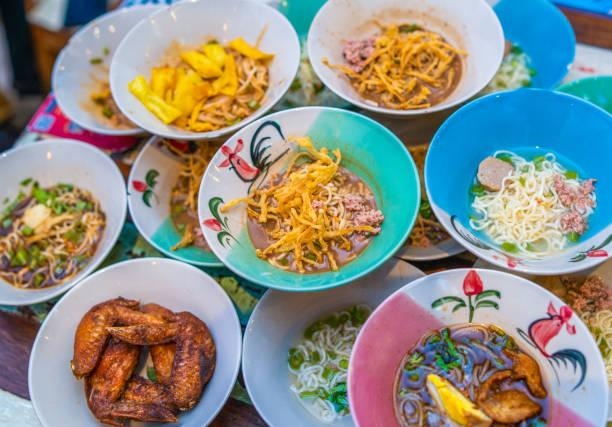Braised Crucian Carp: (357, 267, 612, 427), (200, 105, 418, 290), (30, 257, 238, 425), (424, 87, 608, 271), (242, 268, 424, 425), (109, 0, 296, 142), (307, 0, 503, 120), (2, 138, 126, 303)
